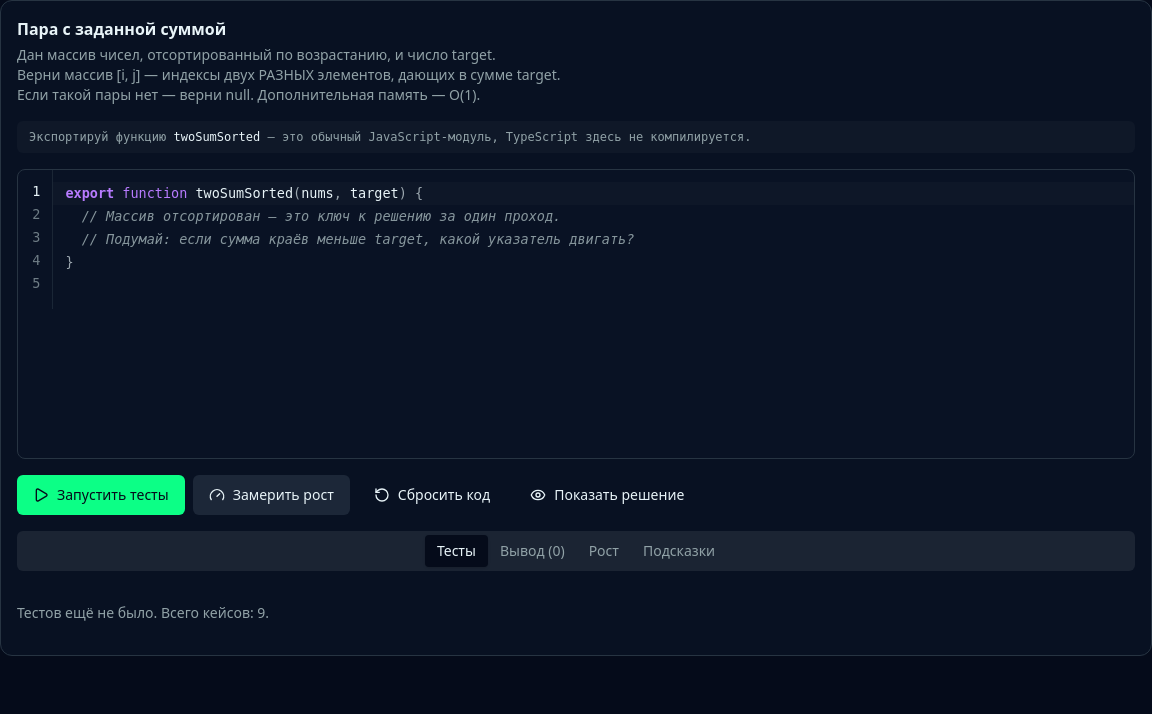
it: Playground › решение скрыто по умолчанию и открывается по кнопке
The width and height of the screenshot is (1152, 714).
Expected: the text "Эталонное решение" is not shown
Click the button "Показать решение" at (607, 495), box [514, 475, 700, 515]
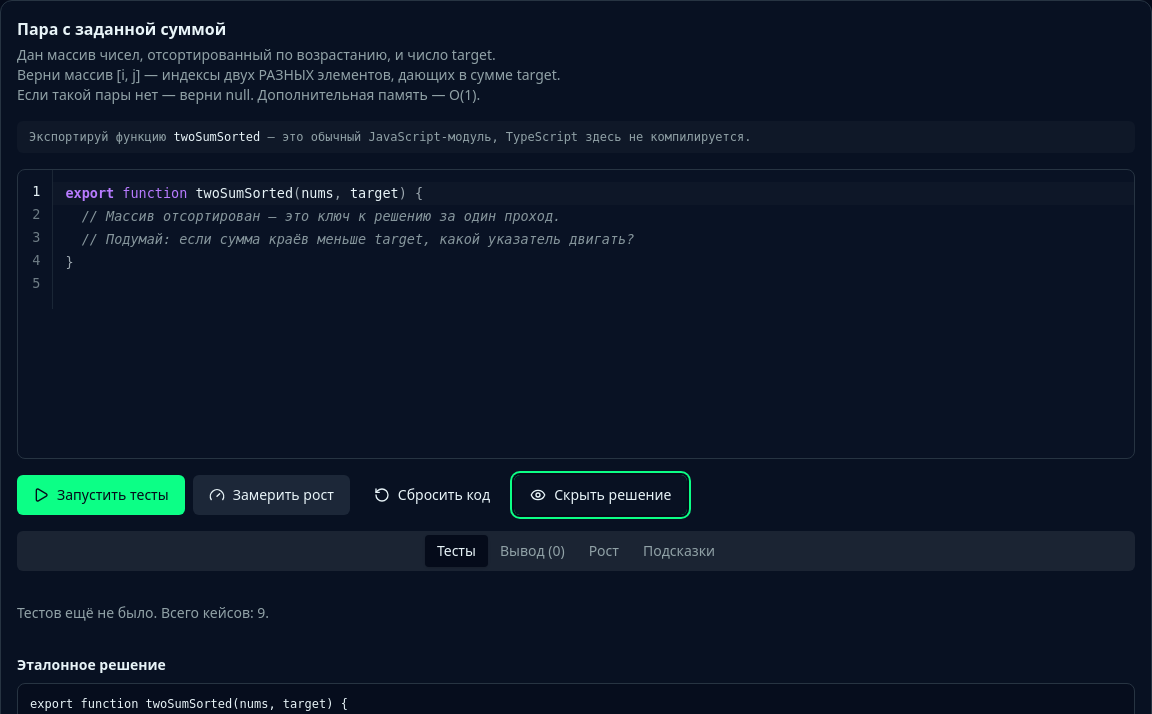
Now the text "Эталонное решение" is shown, box [17, 655, 166, 674]
